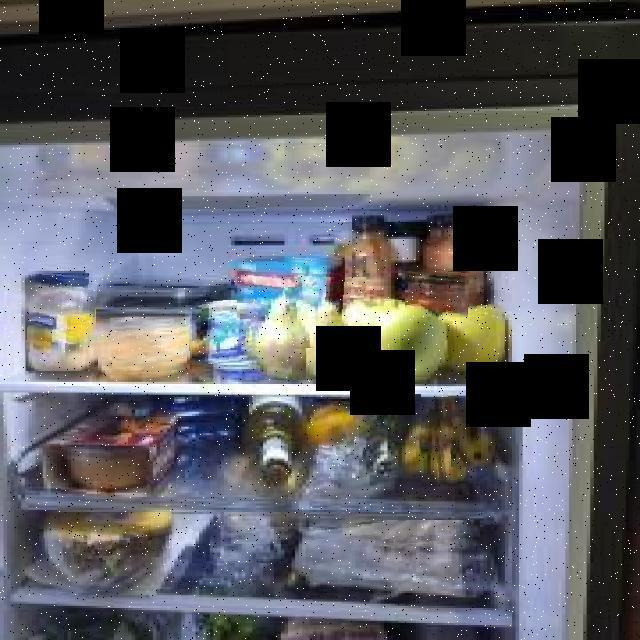apple: (364, 300, 446, 381), (437, 303, 505, 382)
asparagus: (354, 394, 421, 490)
banana: (430, 395, 466, 484), (450, 399, 496, 467), (402, 398, 437, 477)
cheese: (309, 520, 480, 552)
humus: (37, 410, 176, 497), (87, 317, 190, 376)
lemon: (304, 400, 364, 455)
mayonaise: (26, 271, 98, 371)
pear: (306, 277, 366, 380), (249, 273, 306, 380), (283, 287, 318, 349)
pineapple: (41, 512, 172, 595)
tomato_sauce: (406, 268, 470, 317)
yogurt: (237, 257, 343, 319), (197, 300, 265, 366)
